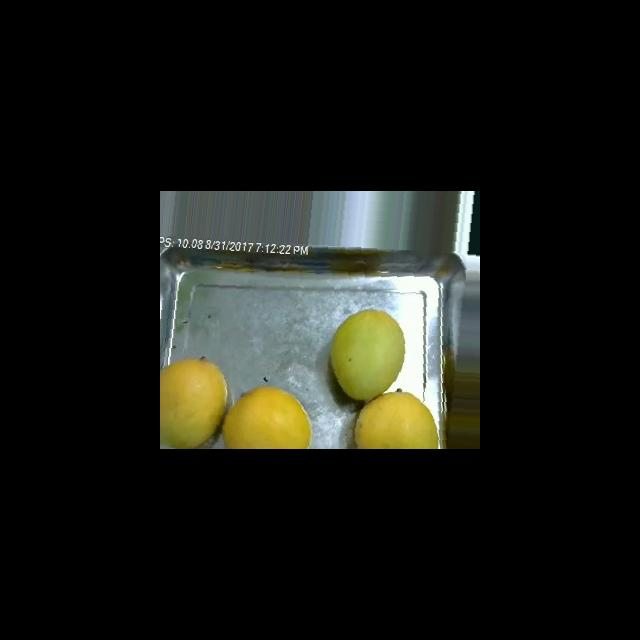Mango: (329, 308, 405, 401), (160, 357, 228, 448), (222, 385, 312, 448), (354, 388, 438, 448)
